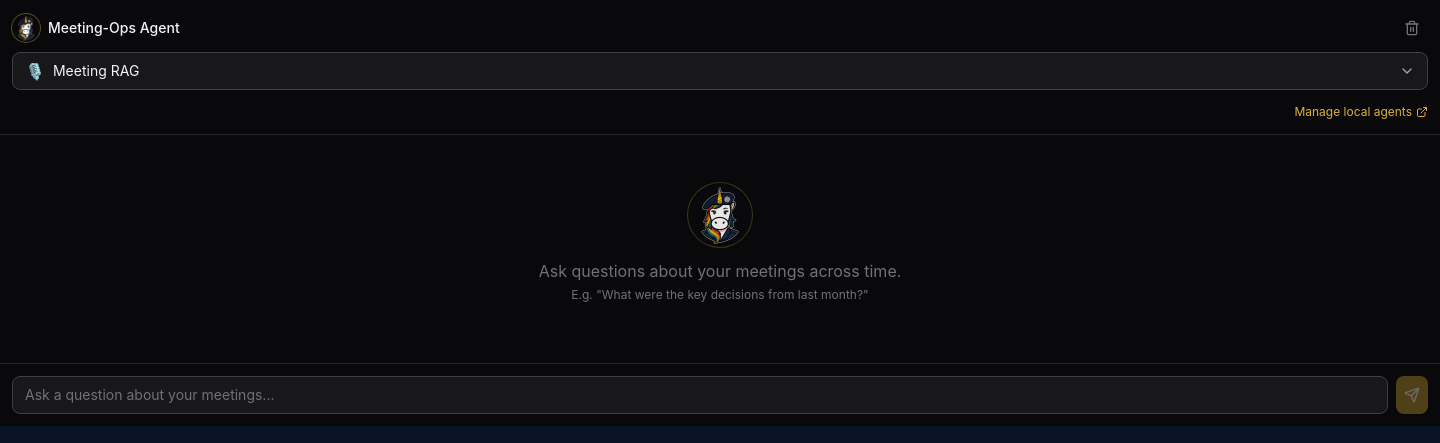
Test: AgentPicker › renders local + brigade agents grouped by source
This screenshot has width=1440, height=443.
Expected: the field with placeholder "Ask a question about your meetings..." is shown, [12,376,1388,414]
# Open the picker.
Click the button with test id "agent-picker-button": (96, 70) [12,52,1428,90]
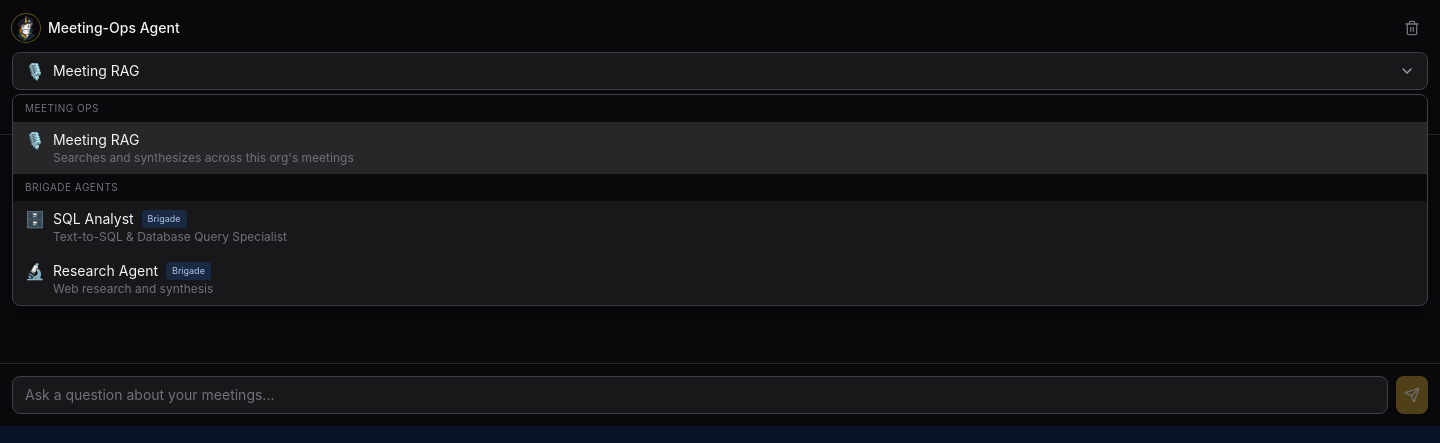
Result: the list with test id "agent-picker-list" is shown at [12,94,1428,306]
Result: the text "Meeting Ops" is shown at [13,95,1427,122]
Result: the text "Brigade Agents" is shown at [13,174,1427,201]
